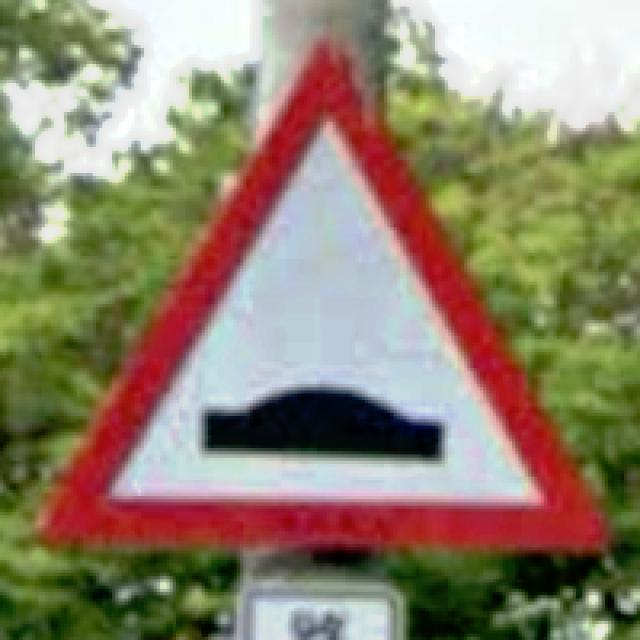hump: (41, 39, 606, 550)
